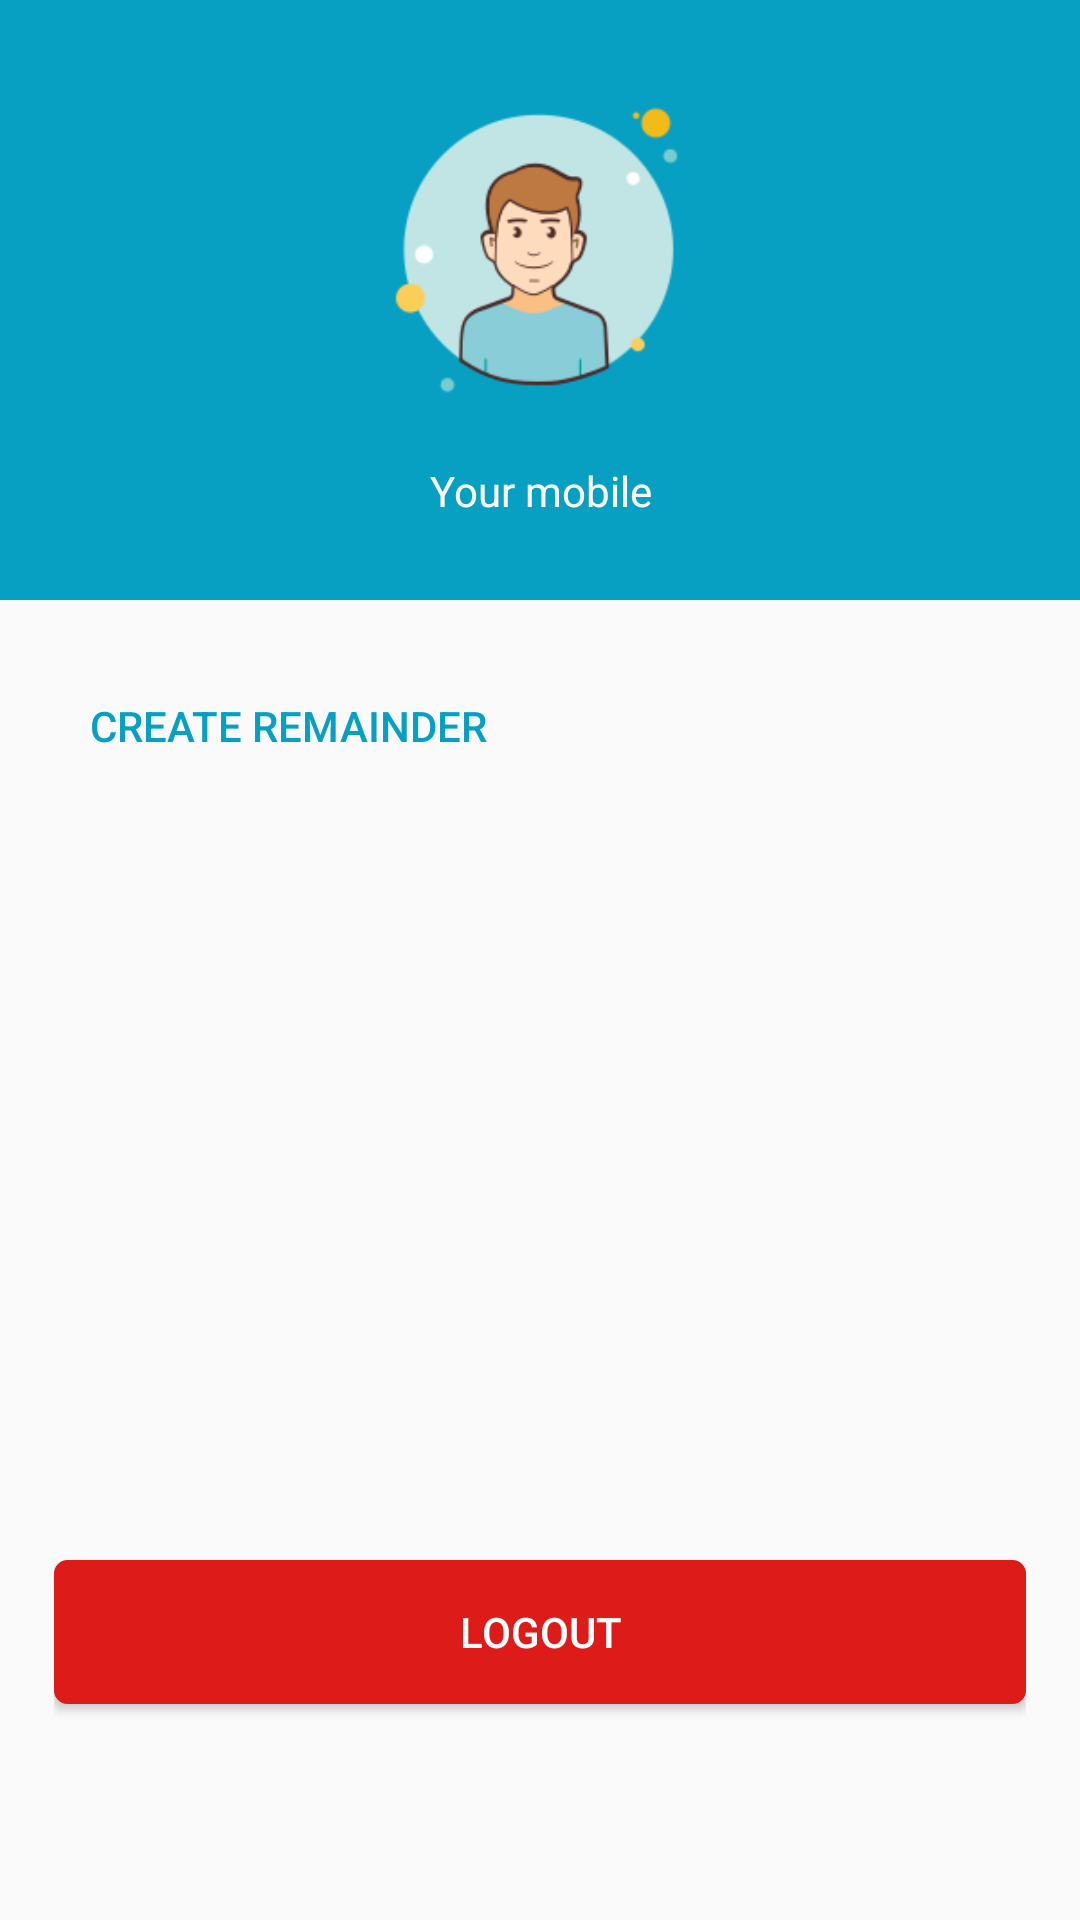

Icon bounding boxes for this 1080w x 1920h phone screenshot, format bbox=[x1, y1, x2, y2]:
user: bbox=[395, 107, 678, 393]
